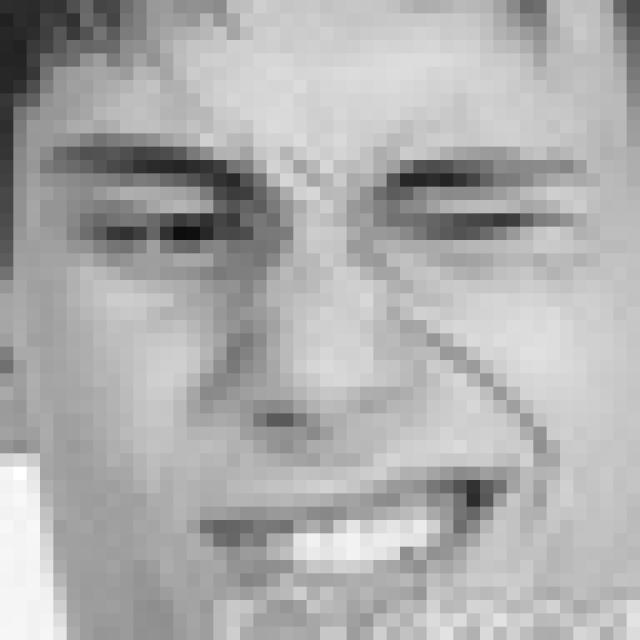disgust: (31, 128, 595, 625)
